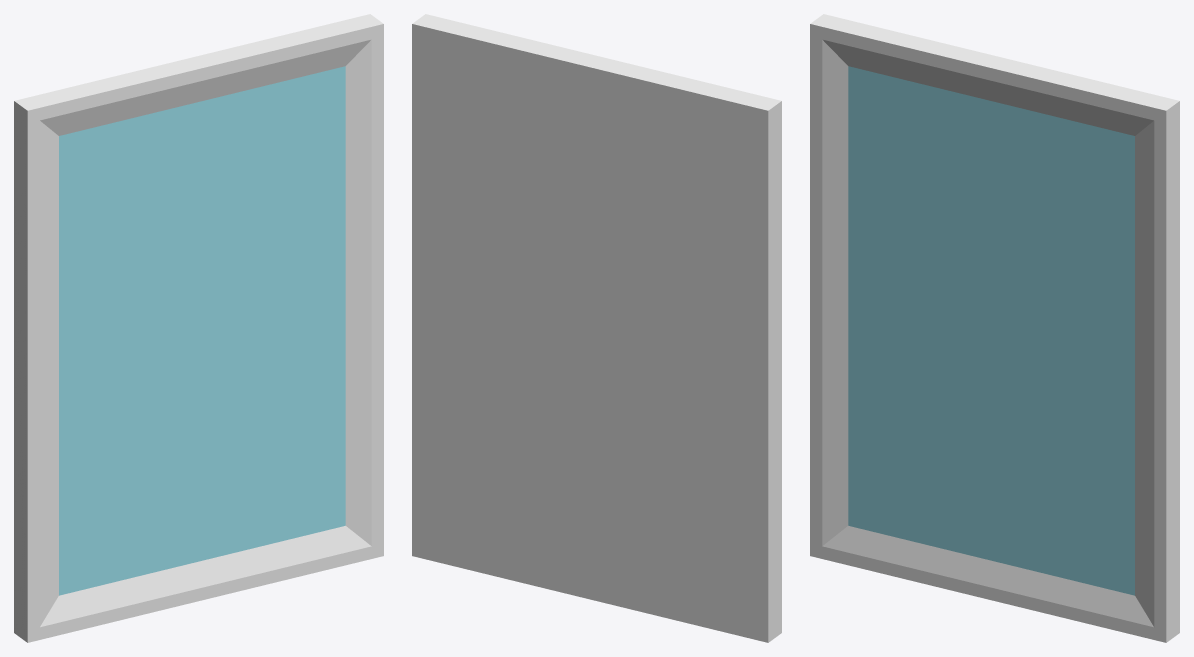
File: mirror.glb
The picture shows the model from 3 angles, left to right: view 1: azimuth 30°, elevation 25°; view 2: azimuth 150°, elevation 25°; view 3: azimuth 330°, elevation 25°; orthographic projection.
Visible parts, largest first — view 1: Prop_Mirror_02_PandaMat_0; view 2: Prop_Mirror_02_PandaMat_0; view 3: Prop_Mirror_02_PandaMat_0.
Boxes of the visible parts, bbox=[...] form: Prop_Mirror_02_PandaMat_0: bbox=[14, 14, 383, 642]; Prop_Mirror_02_PandaMat_0: bbox=[412, 14, 781, 642]; Prop_Mirror_02_PandaMat_0: bbox=[810, 14, 1179, 642].
Bounding box in the file's own units: 0.5021 × 0.7168 × 0.033.
Materials: 1 (1 with a texture image).
